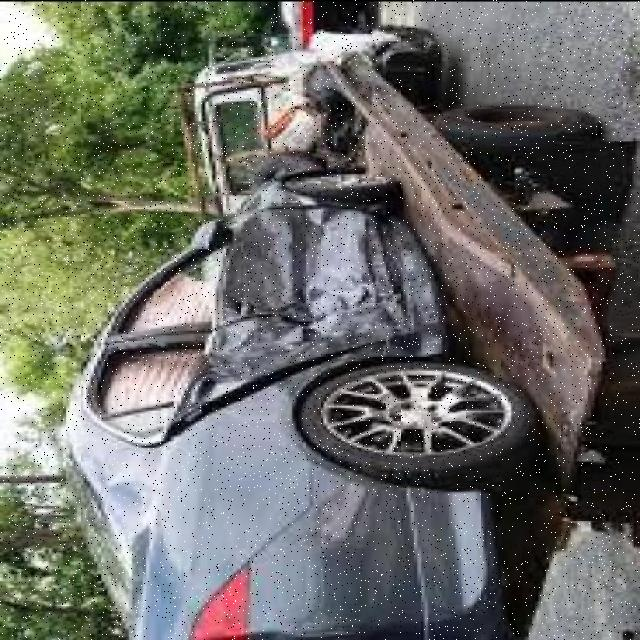damage: (65, 200, 443, 593)
